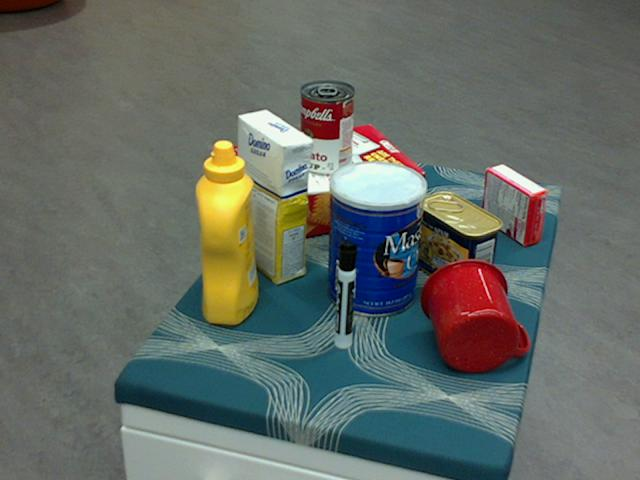cracker_box: (226, 123, 424, 247)
gelatin_box: (483, 164, 548, 246)
large_marker: (334, 241, 355, 350)
master_chef_can: (328, 160, 426, 317)
mug: (420, 257, 527, 372)
mustard_bottle: (195, 141, 258, 325)
potted_meat_can: (417, 192, 503, 293)
sugar_box: (237, 110, 311, 286)
tomato_soup_can: (300, 81, 354, 176)
tuna_fish_can: (346, 167, 419, 238)
